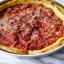pizza: (1, 1, 62, 52)
